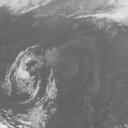cyclone: (5, 45, 57, 97)
